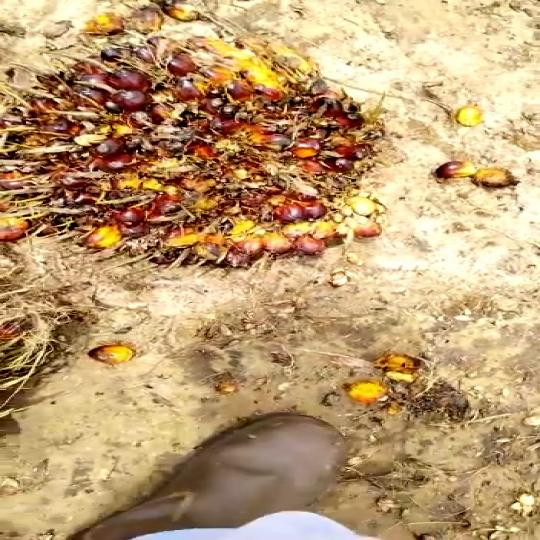masak: (0, 39, 426, 258)
